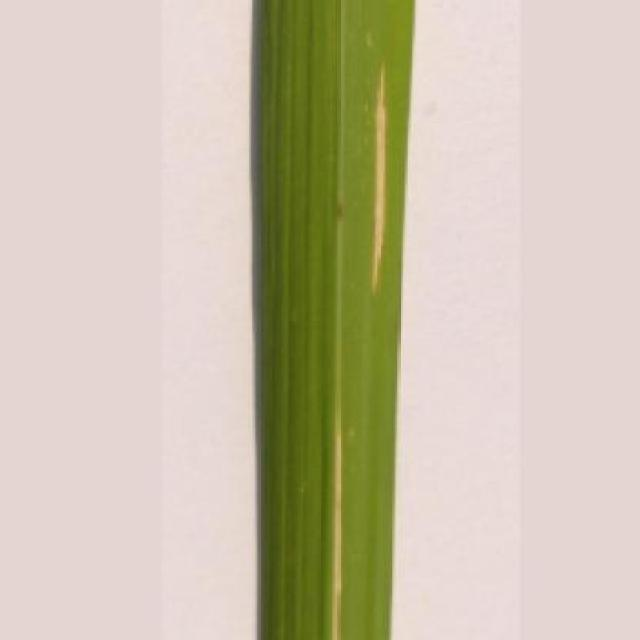Brown_Spot: (253, 0, 415, 640)
